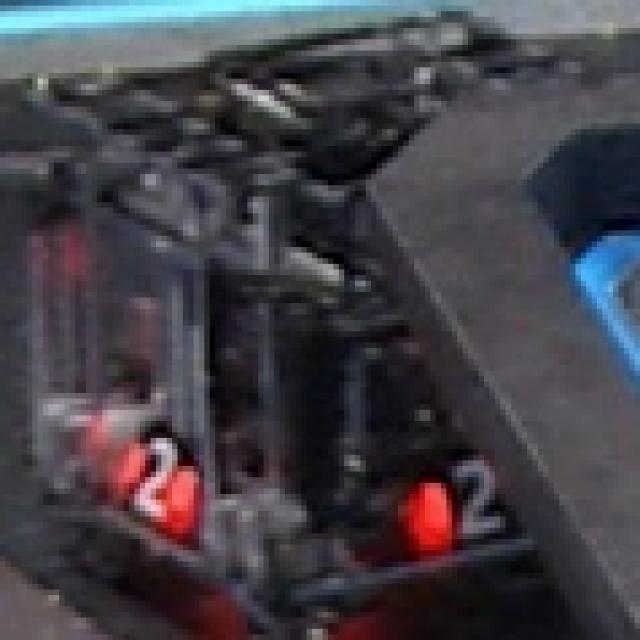R2: (414, 449, 511, 550), (118, 421, 199, 528)
